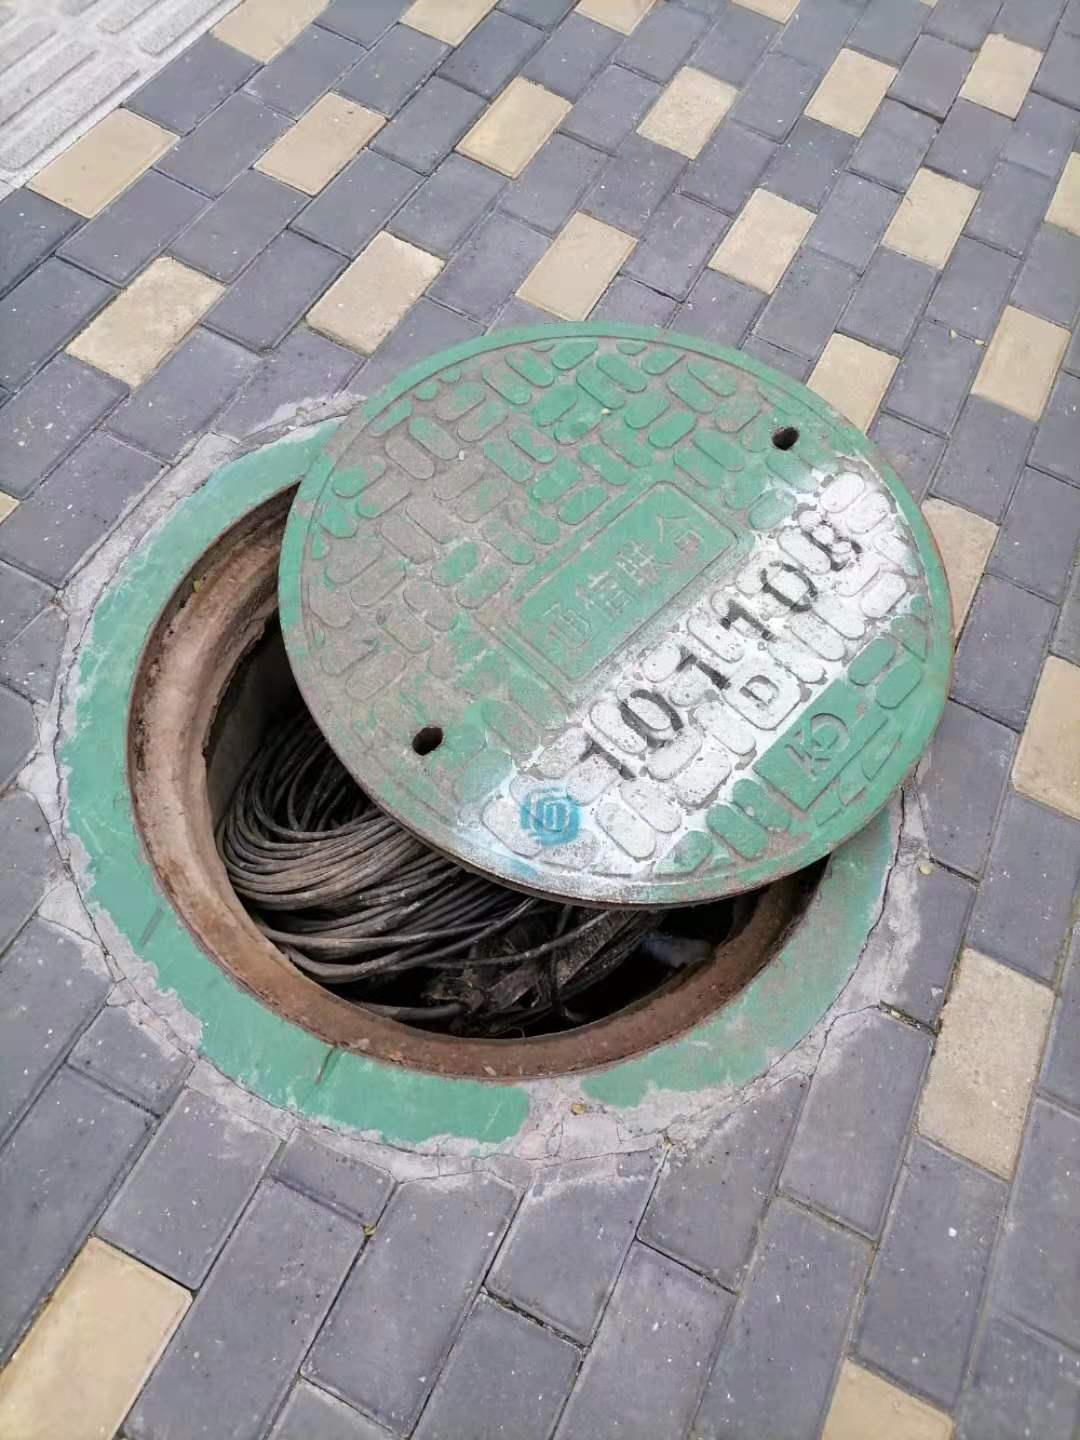uncovered: (61, 327, 961, 1159)
